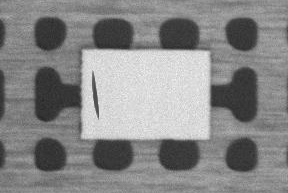DIE_INK: (89, 70, 99, 118)
